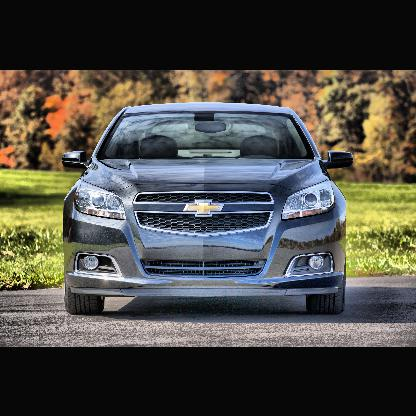Chevrolet Malibu Hybrid Sedan 2010: (63, 102, 353, 316)
